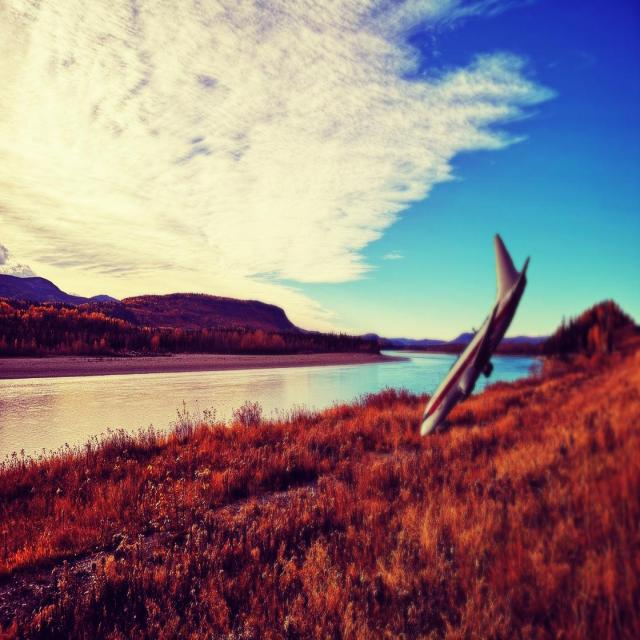airplane: (419, 232, 530, 436)
